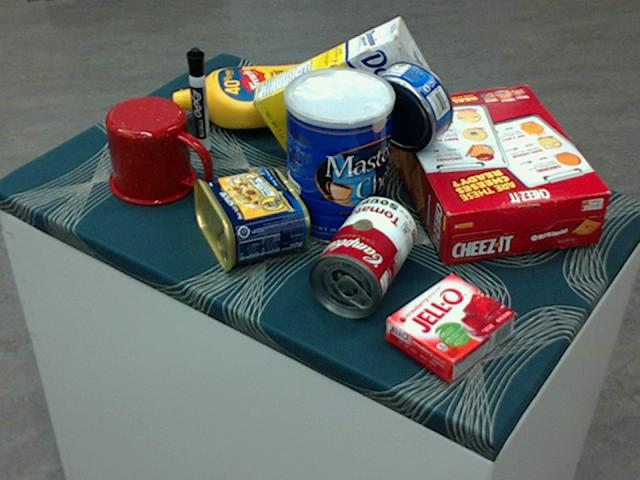cracker_box: (385, 84, 608, 264)
gelatin_box: (385, 273, 515, 381)
large_marker: (185, 47, 211, 152)
master_chef_can: (283, 68, 393, 246)
mug: (105, 96, 209, 206)
mustard_bottle: (171, 60, 342, 127)
potted_meat_can: (190, 166, 309, 271)
sugar_box: (249, 17, 438, 165)
tomato_soup_can: (306, 195, 418, 316)
tuna_fish_can: (364, 59, 453, 149)
